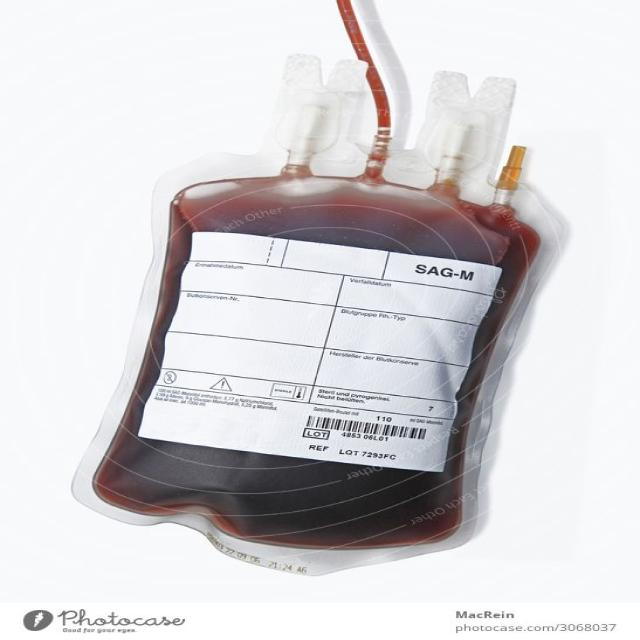B3: (84, 38, 583, 585)
